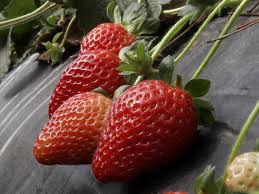ripe: (91, 76, 209, 187), (30, 90, 122, 173), (47, 56, 130, 112), (80, 24, 147, 61)
